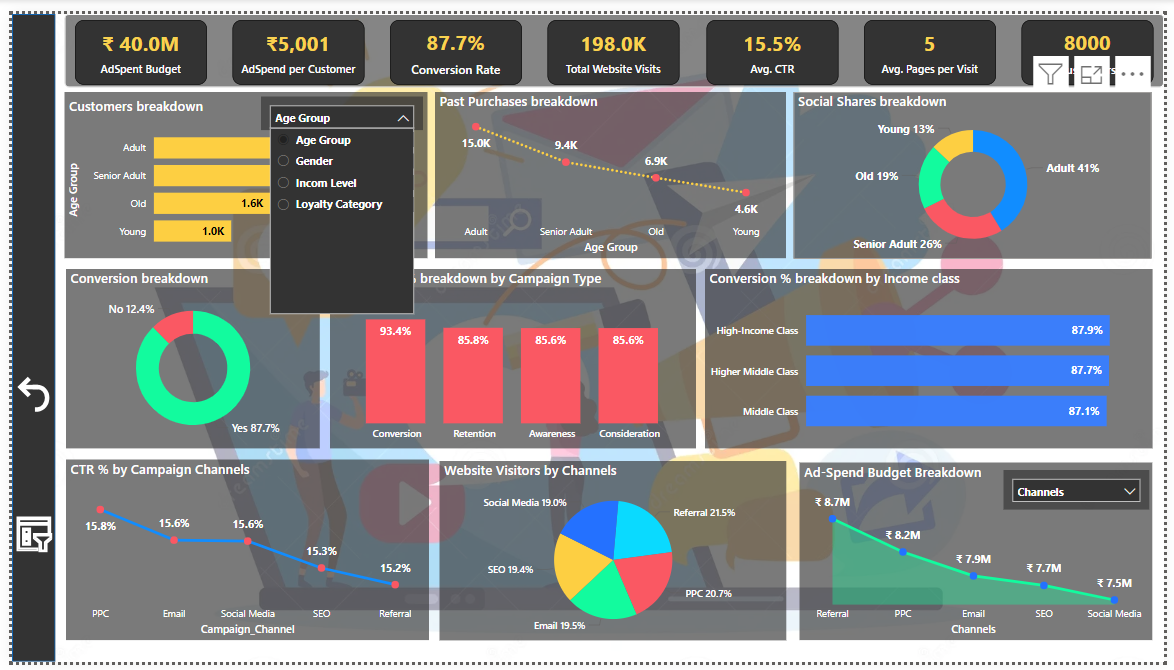

What the dashboard file says about the page in this screenshot:
{"tool":"powerbi","page":{"name":"Dashboard","canvas":[1280,720],"ordinal":0},"visuals":[{"type":"shape","box":[0,0,48.2,719.6],"z":0},{"type":"shape","box":[58.3,0,1221.7,81.7],"z":0,"group":"g1"},{"type":"clusteredBarChart","title":"Customers breakdown ","fields":{"Category":["Lookup Table.Age_Group #"],"Y":["DAX Measures.Total customers/ Visitors"]},"box":[57.8,86.7,403.2,184.6],"z":0,"group":"g3"},{"type":"lineChart","title":"Ad-Spend Budget Breakdown ","fields":{"Category":["Lookup Table.Campaign_Channel"],"Y":["DAX Measures.Total AdSpend Budget"]},"box":[874.4,498.7,391.9,197.5],"z":0,"group":"g2"},{"type":"group","id":"g1","title":"KPI Group","box":[58.3,0,1221.7,81.7],"z":1000},{"type":"card","fields":{"Values":["DAX Measures.Total AdSpend Budget"]},"box":[70,6.9,146.7,71.7],"z":1000,"group":"g1"},{"type":"slicer","fields":{"Values":["set-1: Customer attributes .set-1: Customer attributes "]},"box":[276.3,91.3,179.7,37.2],"z":1000,"group":"g3"},{"type":"slicer","fields":{"Values":["Set-2: Campaign attributes.Set-2: Campaign attributes"]},"box":[1100.4,506.6,161.9,43.7],"z":1000,"group":"g2"},{"type":"card","fields":{"Values":["DAX Measures.Avg Pages per visit"]},"box":[946.4,6.9,146.7,71.7],"z":2000,"group":"g1"},{"type":"donutChart","title":"Conversion breakdown","fields":{"Category":["Lookup Table.Conversion"],"Y":["DAX Measures.Total customers/ Visitors"]},"box":[59.9,283.4,281.7,199.2],"z":2000},{"type":"card","fields":{"Values":["DAX Measures.Total Website Visits"]},"box":[595.8,6.9,146.7,71.7],"z":3000,"group":"g1"},{"type":"columnChart","title":"Conversion % breakdown by Campaign Type","fields":{"Category":["Lookup Table.Campaign_Type"],"Y":["DAX Measures.Conversion %"]},"box":[353,283.4,406.4,199.2],"z":3000},{"type":"card","fields":{"Values":["DAX Measures.Avg AdSpend"]},"box":[245.2,6.9,146.7,71.7],"z":4000,"group":"g1"},{"type":"lineChart","title":"CTR % by Campaign Channels","fields":{"Y":["DAX Measures.Avg CTR"],"Category":["Lookup Table.Campaign_Channel"]},"box":[59.9,495.5,403.2,200.8],"z":4000},{"type":"card","fields":{"Values":["DAX Measures.Total customers/ Visitors"]},"box":[1121.6,6.9,146.7,71.7],"z":5000,"group":"g1"},{"type":"pieChart","title":"Website Visitors by Channels","fields":{"Category":["Lookup Table.Campaign_Channel"],"Y":["DAX Measures.Total customers/ Visitors"]},"box":[474.4,497.1,385.4,199.2],"z":5000},{"type":"card","fields":{"Values":["DAX Measures.Avg CTR"]},"box":[771.1,6.9,146.7,71.7],"z":6000,"group":"g1"},{"type":"group","id":"g2","title":"Ad-Spend Budget Breakdown","box":[874.4,498.7,391.9,197.5],"z":6000},{"type":"card","fields":{"Values":["DAX Measures.Conversion %"]},"box":[420.5,6.9,146.7,71.7],"z":7000,"group":"g1"},{"type":"clusteredBarChart","title":"Conversion % breakdown by Income class","fields":{"Y":["DAX Measures.Conversion %"],"Category":["Lookup Table.Incom_Level_Category #"]},"box":[770.8,283.4,497.1,199.2],"z":7000},{"type":"donutChart","title":"Social Shares breakdown","fields":{"Category":["Lookup Table.Age_Group #"],"Y":["Sum(Fact Table.Social_Shares)"]},"box":[867.9,87.4,398.3,184.6],"z":8000},{"type":"group","id":"g3","title":"Group 1","box":[57.8,86.7,403.2,184.6],"z":9000},{"type":"lineChart","title":"Past Purchases breakdown","fields":{"Category":["Lookup Table.Age_Group #"],"Y":["DAX Measures.Total Past Purchases"]},"box":[469.6,87.4,390.2,184.6],"z":10000},{"type":"actionButton","box":[0,383.8,48.6,77.7],"z":11000},{"type":"actionButton","box":[0,550.5,48.6,55.1],"z":12000}]}

Visuals, with their boxes in screenshot pixels (x1, y1, x2, y2):
shape: 6, 9, 50, 660
shape: 59, 9, 1164, 83
"Customers breakdown " clusteredBarChart: 58, 88, 423, 255
"Ad-Spend Budget Breakdown " lineChart: 797, 460, 1151, 639
"KPI Group" group: 59, 9, 1164, 83
card - DAX Measures.Total AdSpend Budget: 69, 15, 202, 80
slicer - set-1: Customer attributes .set-1: Customer attributes : 256, 92, 419, 125
slicer - Set-2: Campaign attributes.Set-2: Campaign attributes: 1001, 467, 1148, 507
card - DAX Measures.Avg Pages per visit: 862, 15, 995, 80
"Conversion breakdown" donutChart: 60, 266, 315, 446
card - DAX Measures.Total Website Visits: 545, 15, 678, 80
"Conversion % breakdown by Campaign Type" columnChart: 325, 266, 693, 446
card - DAX Measures.Avg AdSpend: 228, 15, 361, 80
"CTR % by Campaign Channels" lineChart: 60, 457, 425, 639
card - DAX Measures.Total customers/ Visitors: 1021, 15, 1153, 80
"Website Visitors by Channels" pieChart: 435, 459, 784, 639
card - DAX Measures.Avg CTR: 704, 15, 836, 80
"Ad-Spend Budget Breakdown" group: 797, 460, 1151, 639
card - DAX Measures.Conversion %: 386, 15, 519, 80
"Conversion % breakdown by Income class" clusteredBarChart: 703, 266, 1153, 446
"Social Shares breakdown" donutChart: 791, 88, 1151, 255
"Group 1" group: 58, 88, 423, 255
"Past Purchases breakdown" lineChart: 431, 88, 784, 255
actionButton: 6, 356, 50, 427
actionButton: 6, 507, 50, 557
